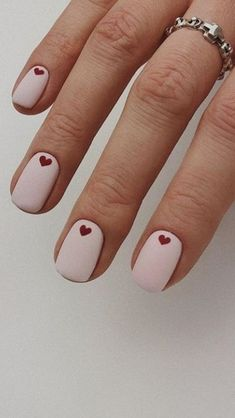nails: (126, 224, 191, 297), (46, 217, 113, 285), (5, 146, 68, 217), (9, 58, 60, 116)
